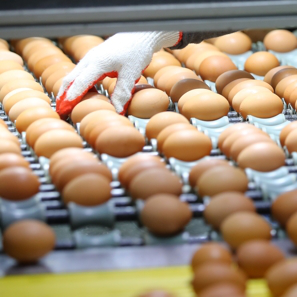egg: (1, 29, 297, 198), (142, 192, 296, 297), (1, 217, 56, 264)
